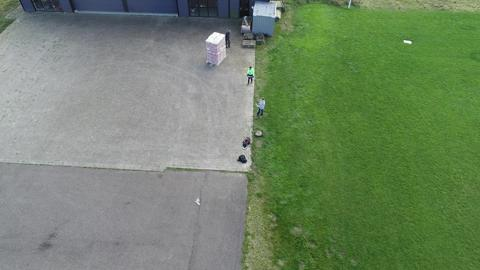RockwoolPallet: (207, 30, 227, 61)
